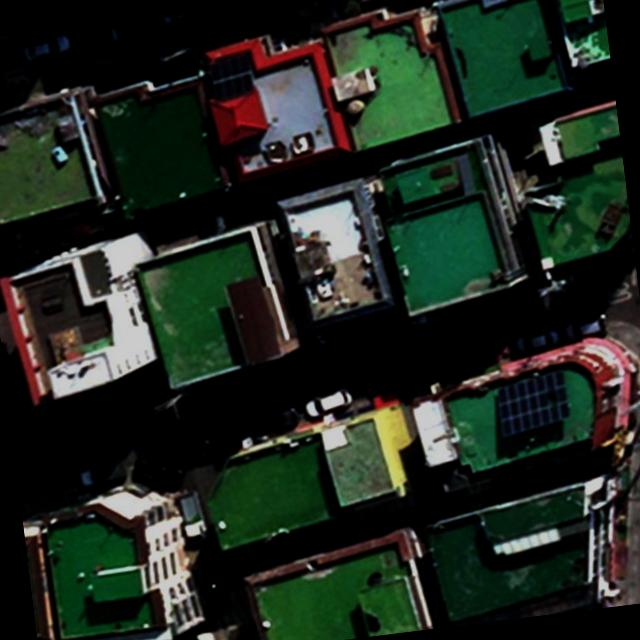solar: (491, 368, 578, 445), (204, 46, 264, 111)
